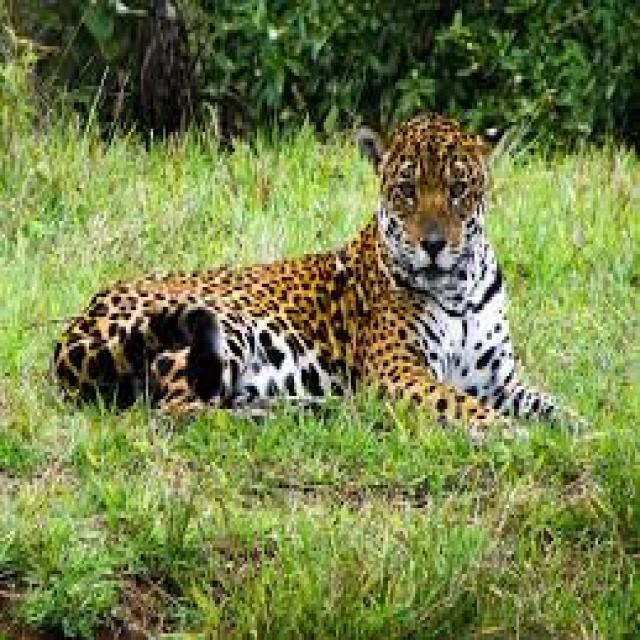Jaguar: (54, 112, 588, 436)
